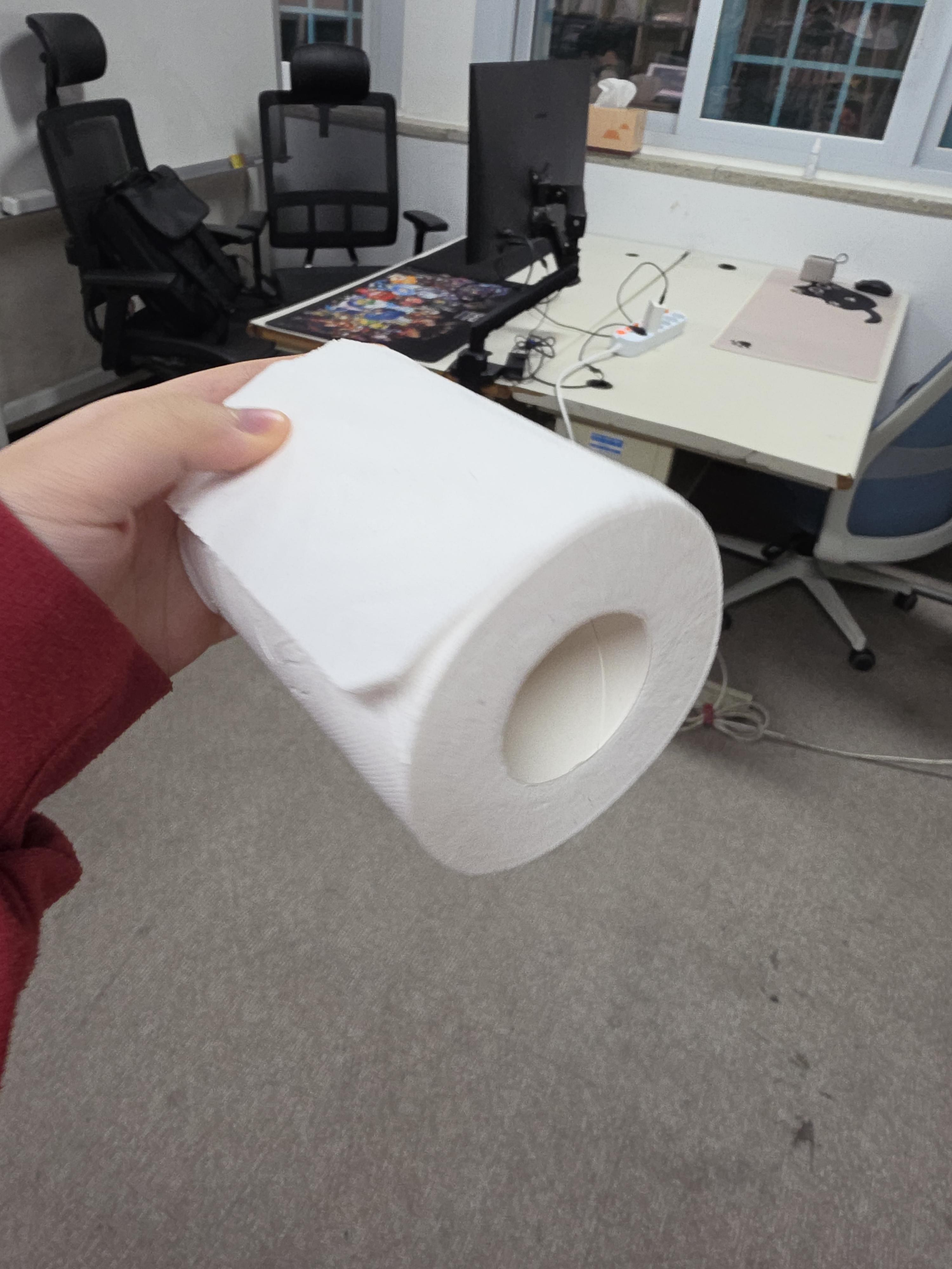tissue: (167, 338, 725, 875), (586, 77, 648, 154)
